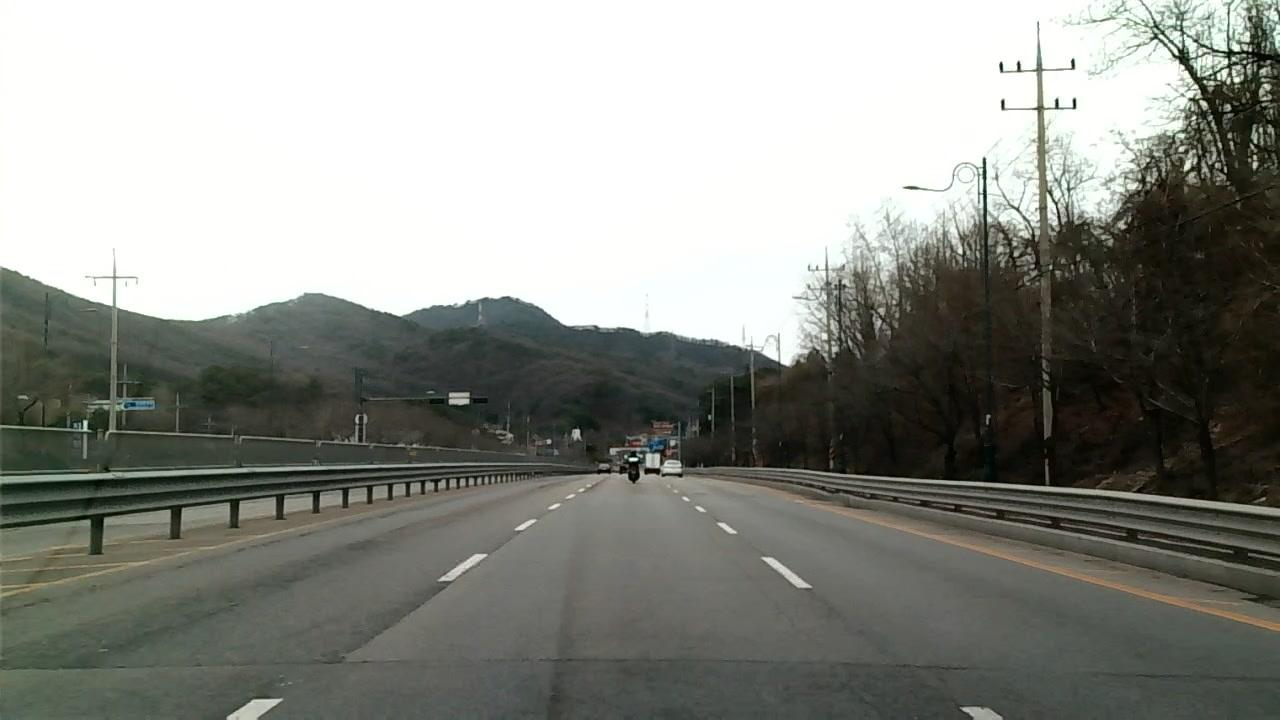erosion: (163, 535, 378, 612)
hcrack: (1, 652, 1280, 684)
